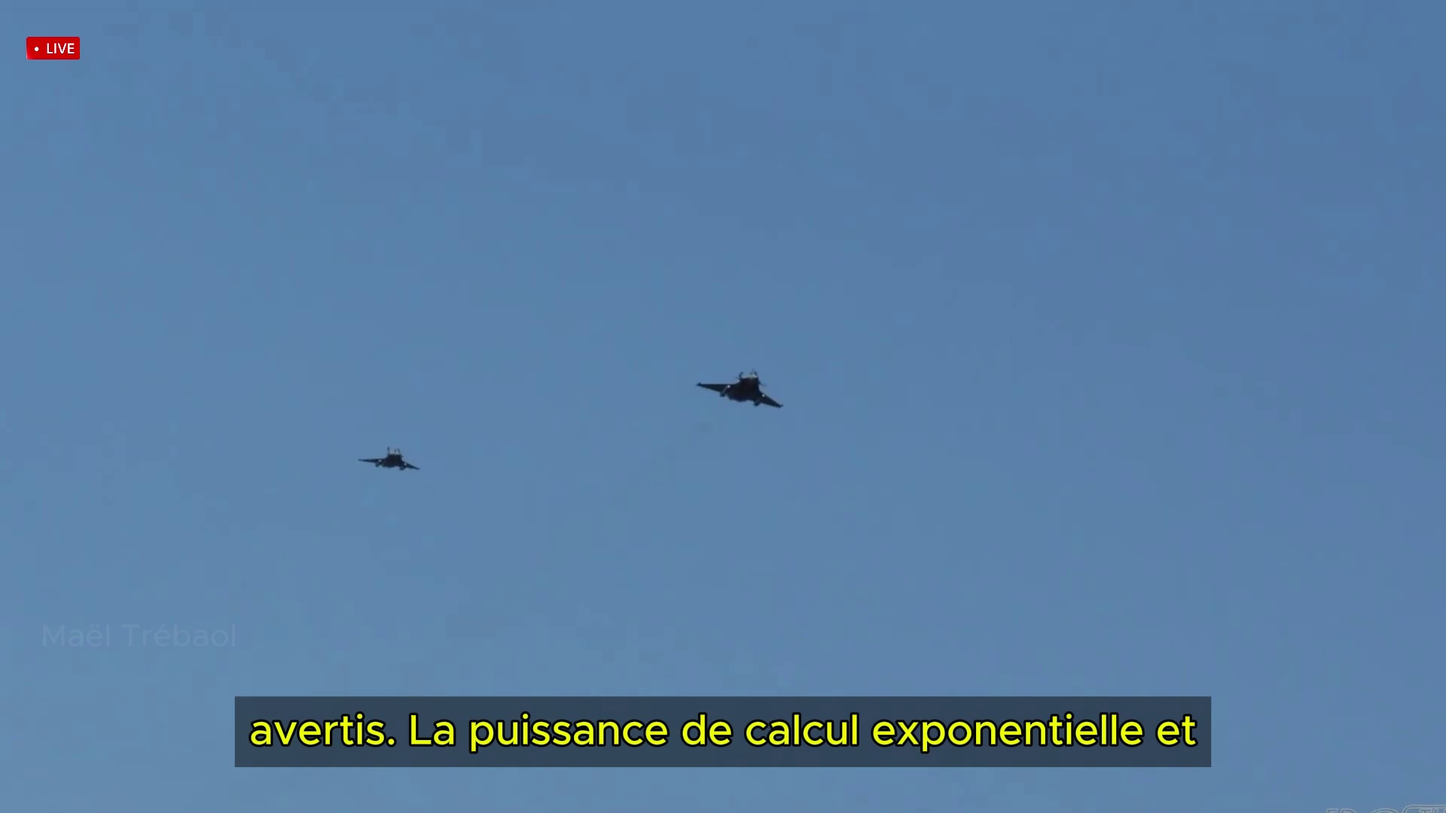Rafale: (694, 367, 783, 408), (356, 445, 422, 473)
